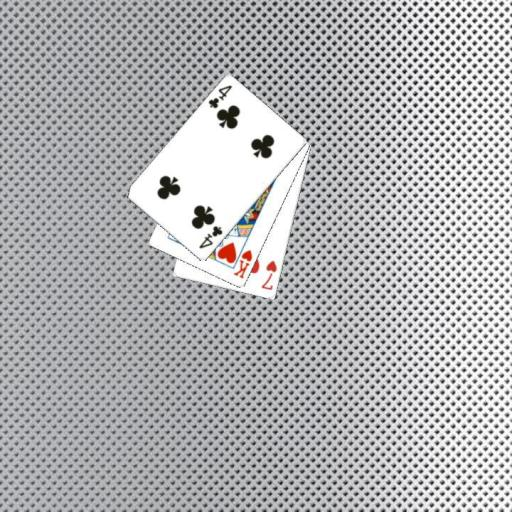4C: (205, 83, 234, 110), (196, 223, 224, 250)
7H: (258, 258, 279, 293)
KH: (230, 247, 254, 280)
